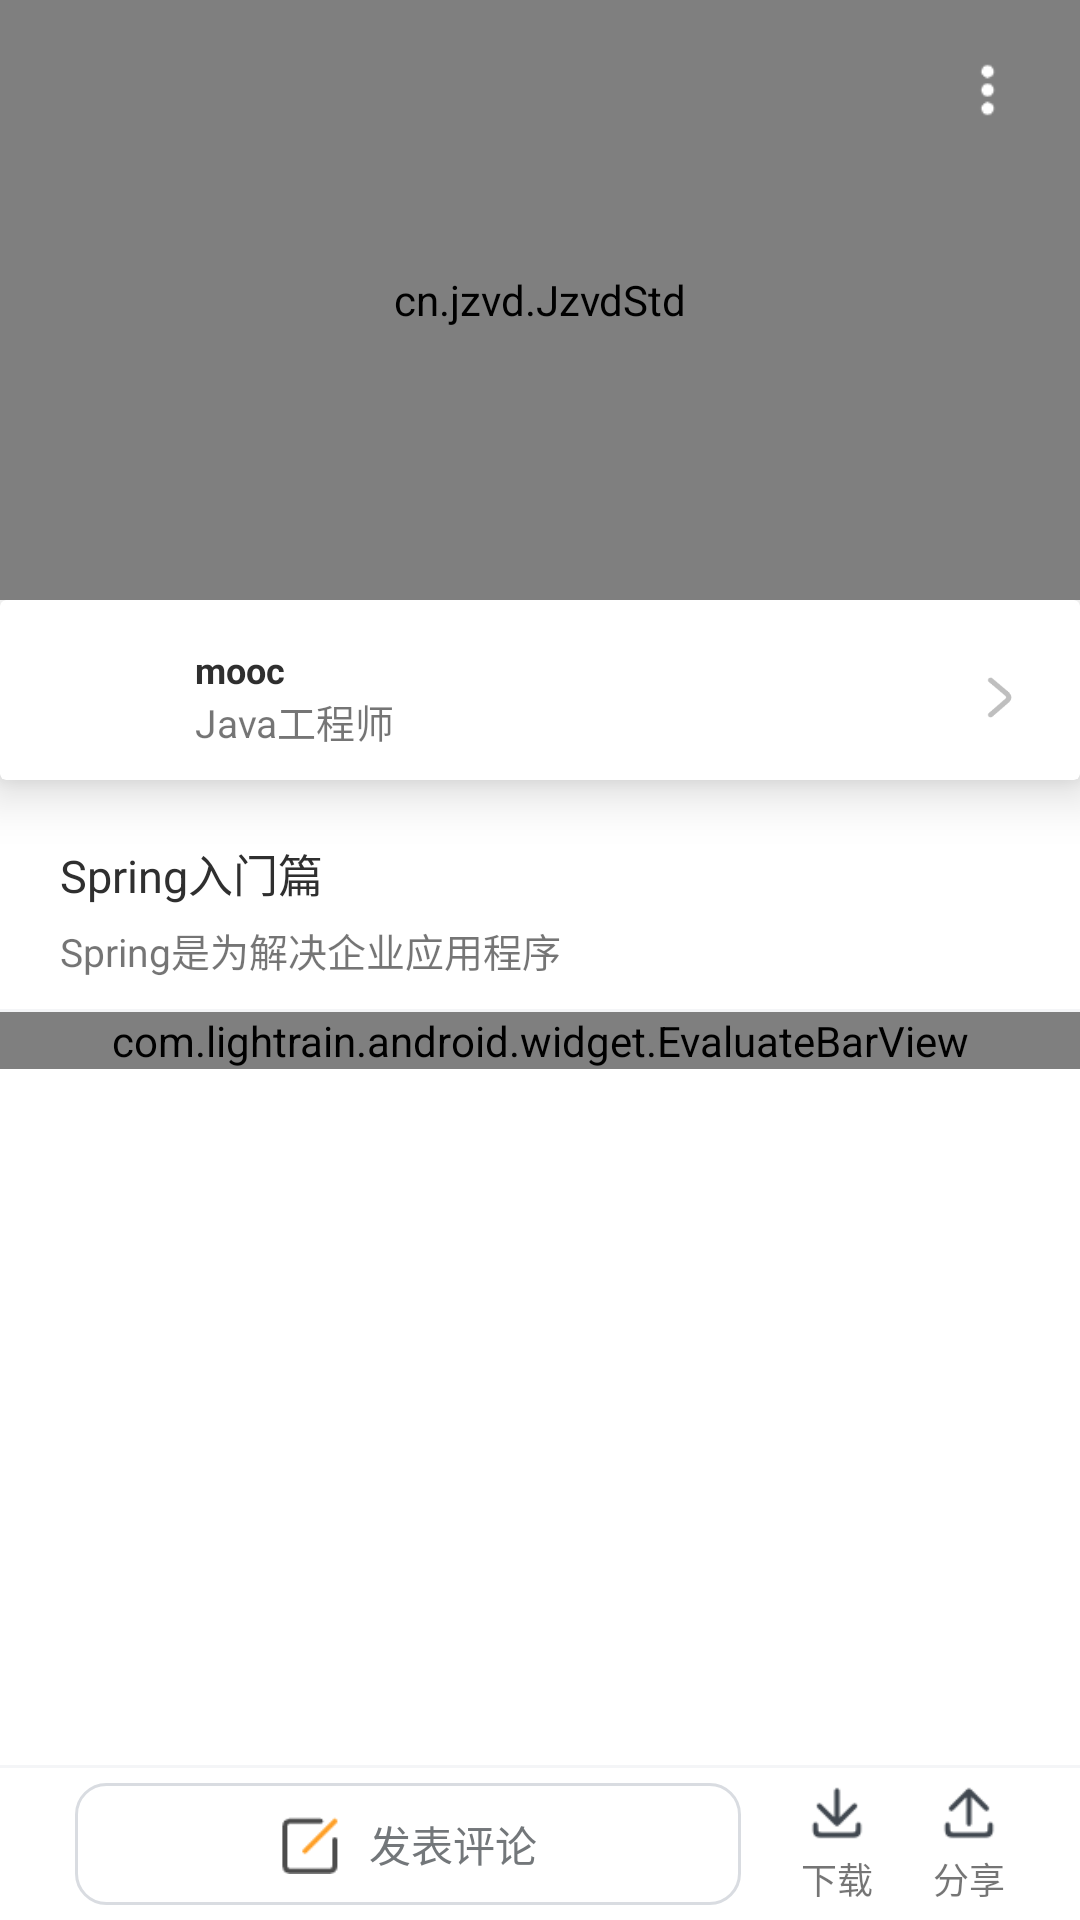

Screen size 1080x1920. Icon name, then its box in pixels as (x1,y1,x2,y2):
arrow right: (988,678,1011,717)
note down: (282,1817,338,1874)
points: (981,65,994,115)
upload: (944,1788,994,1839)
